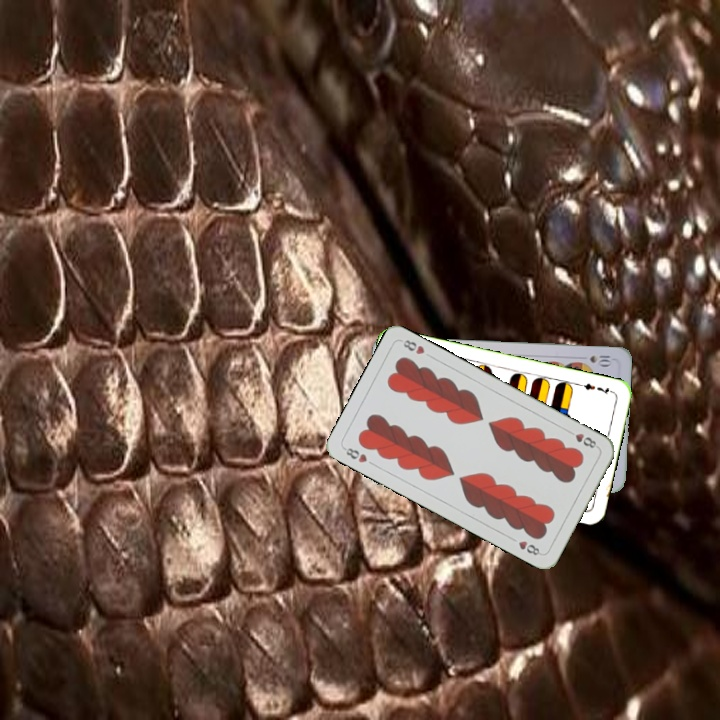E7: (576, 379, 616, 397)
H8: (563, 426, 601, 451), (340, 444, 370, 465)
S10: (585, 351, 614, 367)
